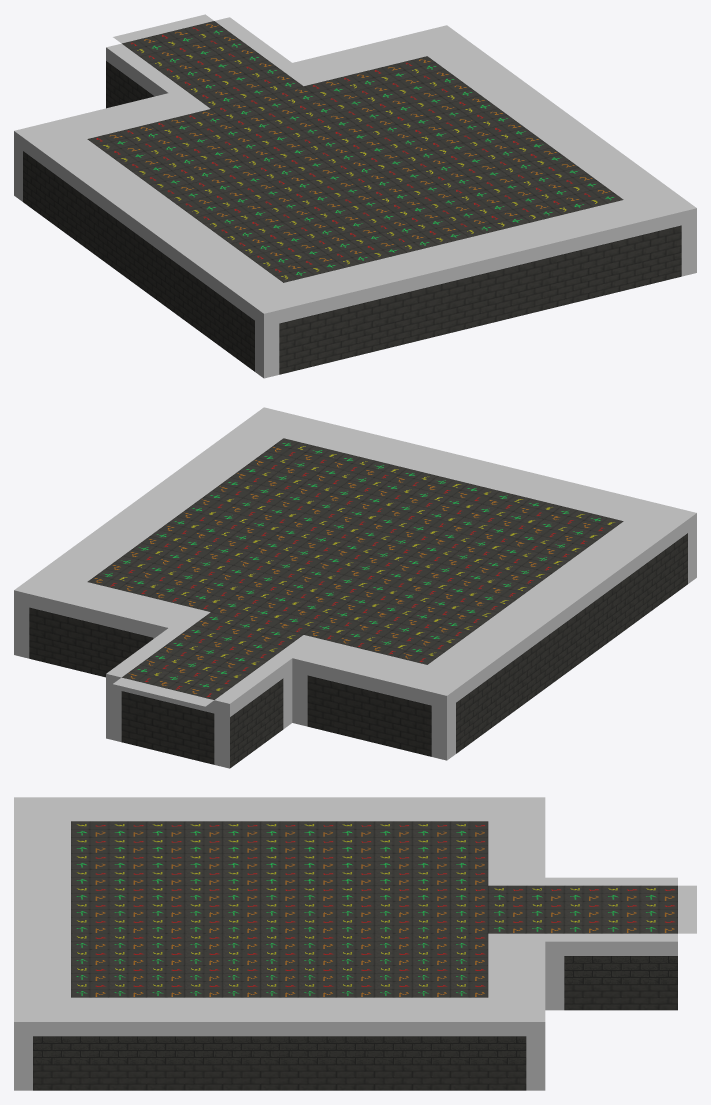
The picture shows the model from 3 angles, top to bottom: view 1: azimuth 30°, elevation 25°; view 2: azimuth 150°, elevation 25°; view 3: azimuth 270°, elevation 25°; orthographic projection. The views are drawn at different scales.
Visible parts, largest first — view 1: Cube; view 2: Cube; view 3: Cube.
Boxes of the visible parts, box(x1,y1,x2,y2) form: Cube: box(14, 14, 696, 378); Cube: box(14, 407, 696, 768); Cube: box(14, 797, 696, 1090).
Bounding box in the file's own units: 28 × 4 × 36.
